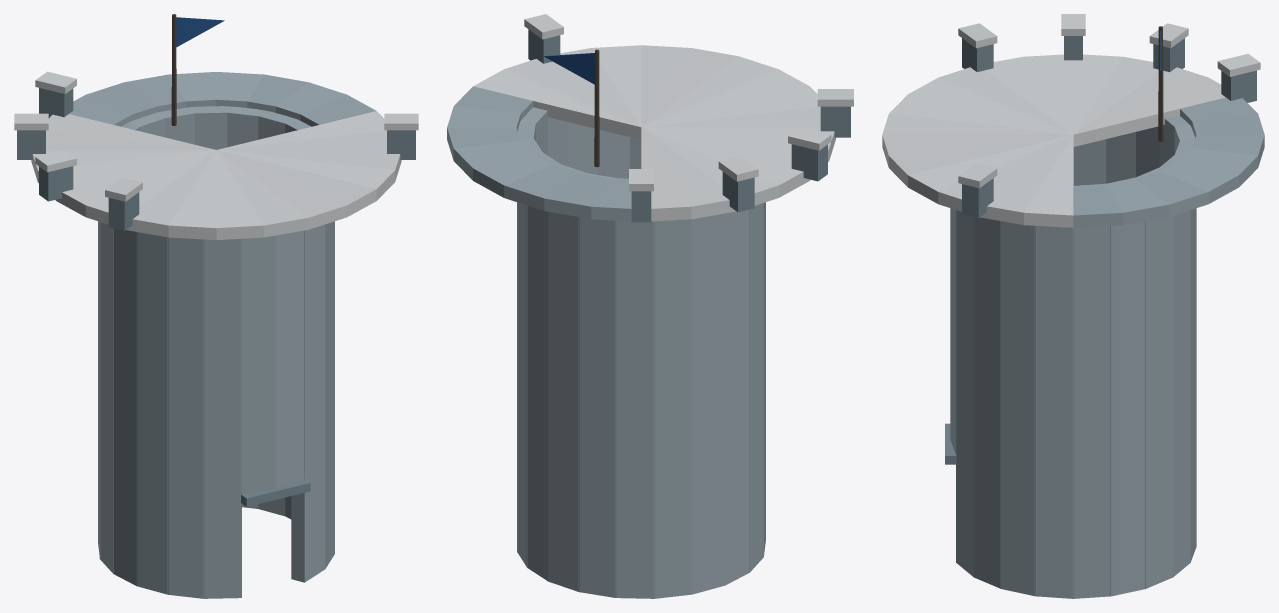
Rendered from tower_snow_hollow.glb.
The picture shows the model from 3 angles, left to right: view 1: azimuth 30°, elevation 25°; view 2: azimuth 150°, elevation 25°; view 3: azimuth 270°, elevation 25°; orthographic projection. The views are drawn at different scales.
Visible parts, largest first — view 1: tower_snow_hollow; view 2: tower_snow_hollow; view 3: tower_snow_hollow.
Part boxes in pixels (x1,y1,x2,y2): tower_snow_hollow: [14, 14, 418, 598]; tower_snow_hollow: [447, 14, 853, 598]; tower_snow_hollow: [882, 14, 1264, 598].
Size of the model in its own units: 14.65 by 21 by 14.
